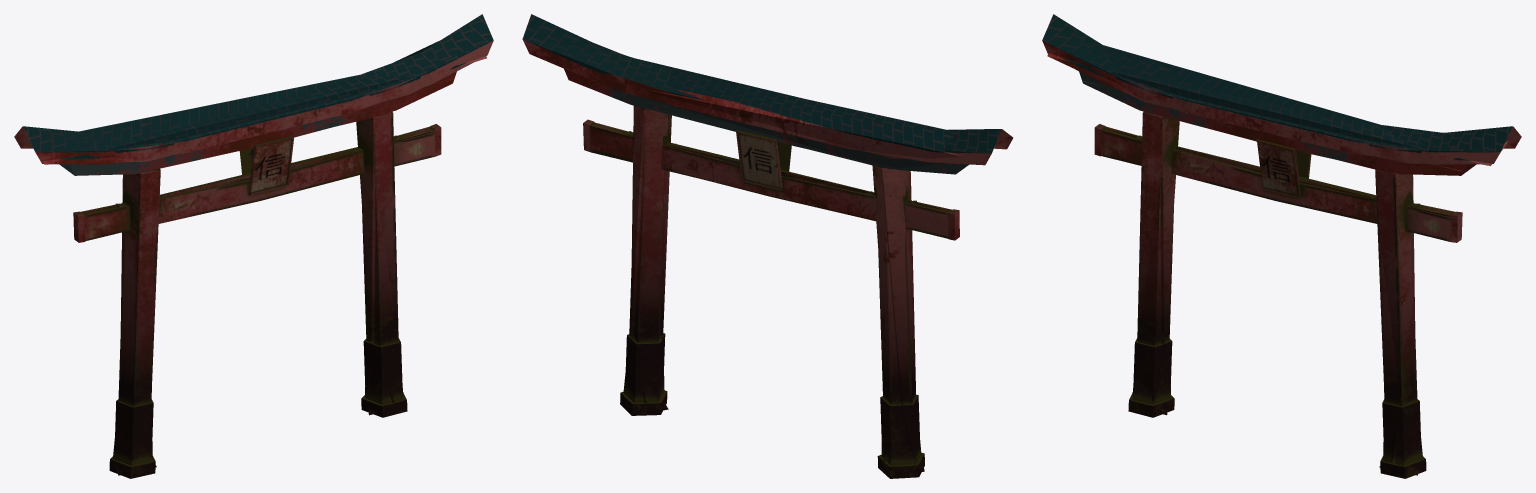
File: teste lod 1.fbx
3 renders of one model, left to right at view 1: azimuth 30°, elevation 25°; view 2: azimuth 150°, elevation 25°; view 3: azimuth 330°, elevation 25°, orthographic. The views are drawn at different scales.
Visible parts, largest first — view 1: LOD3; view 2: LOD3; view 3: LOD3.
Part boxes in pixels (x1,y1,x2,y2): LOD3: [14, 14, 493, 478]; LOD3: [522, 14, 1013, 478]; LOD3: [1042, 14, 1521, 478].
Bounding box in the file's own units: 1103 × 834 × 108.
